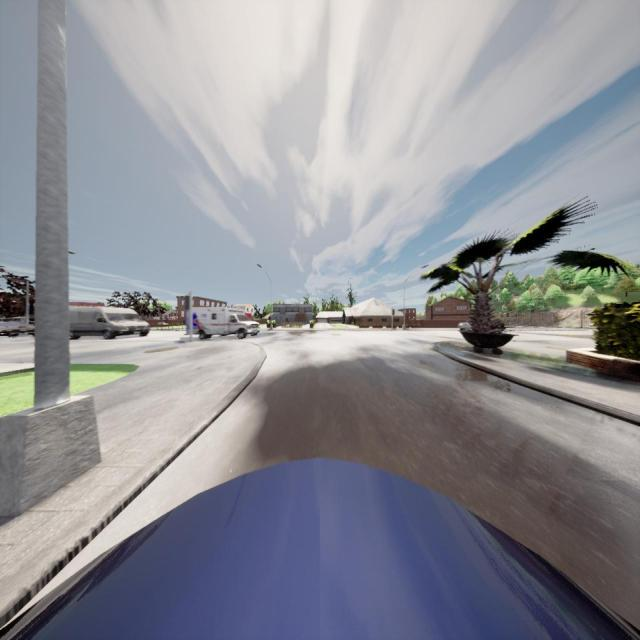Vehicle: (1, 458, 640, 640), (69, 302, 150, 339), (186, 308, 260, 339)
traffic_light: (184, 296, 190, 310), (392, 309, 395, 315)
